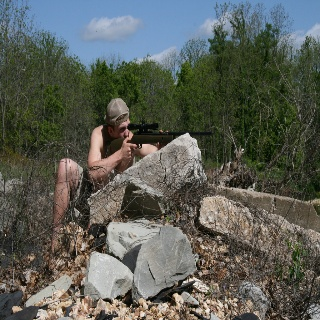rifle: (102, 120, 214, 163)
